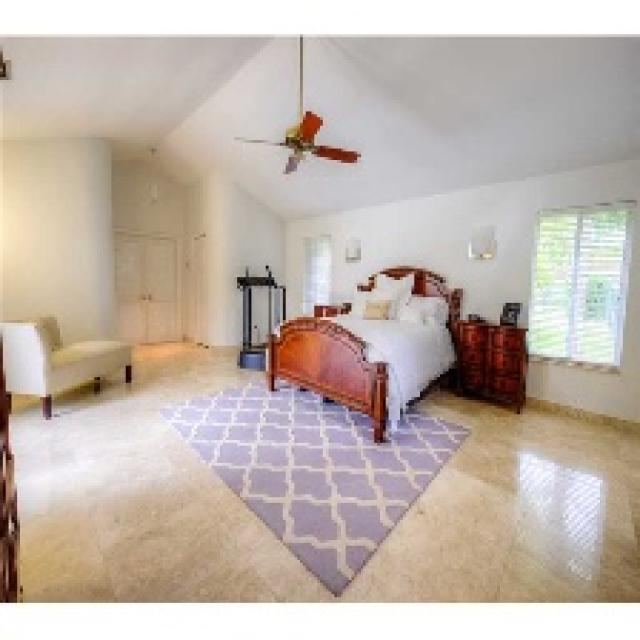Bed: (263, 266, 463, 443)
